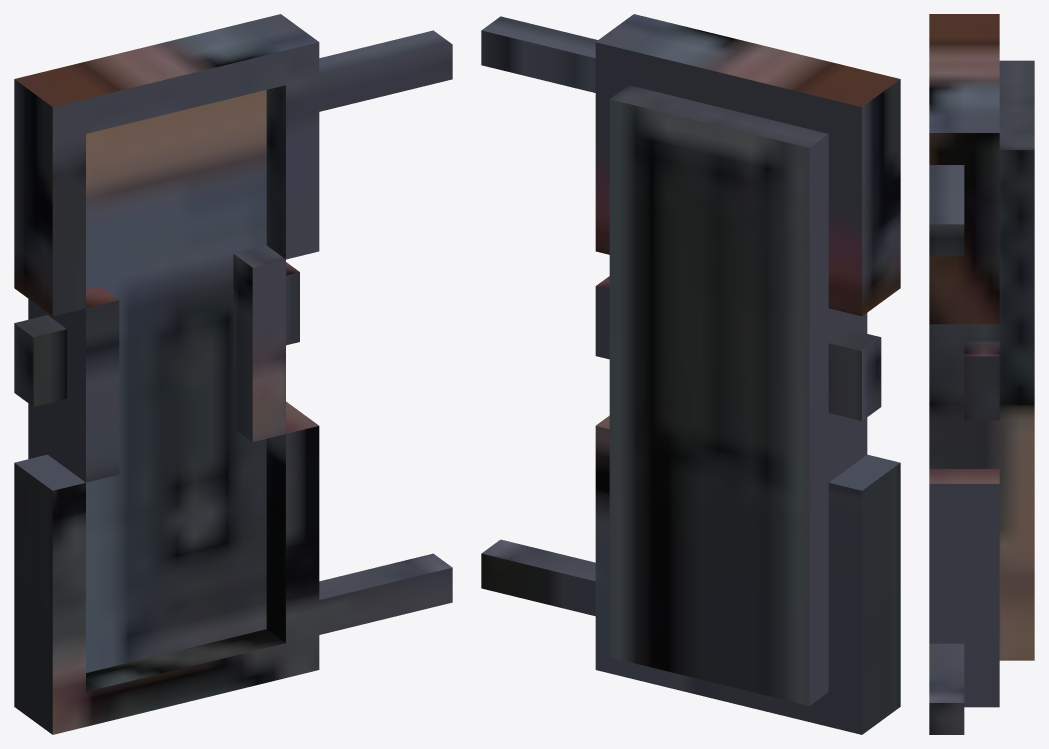
The model's file is Advertising_6.glb.
3 renders of one model, left to right at view 1: azimuth 30°, elevation 25°; view 2: azimuth 150°, elevation 25°; view 3: azimuth 270°, elevation 25°, orthographic. The views are drawn at different scales.
Parts seen in each view (by area): view 1: Advertising_6; view 2: Advertising_6; view 3: Advertising_6.
Part boxes in pixels (bbox=[...]): Advertising_6: bbox=[14, 14, 452, 734]; Advertising_6: bbox=[481, 14, 900, 734]; Advertising_6: bbox=[929, 14, 1034, 734].
Bounding box in the file's own units: 1.2 × 1.8 × 0.2999.
Materials: 1 (1 with a texture image).
